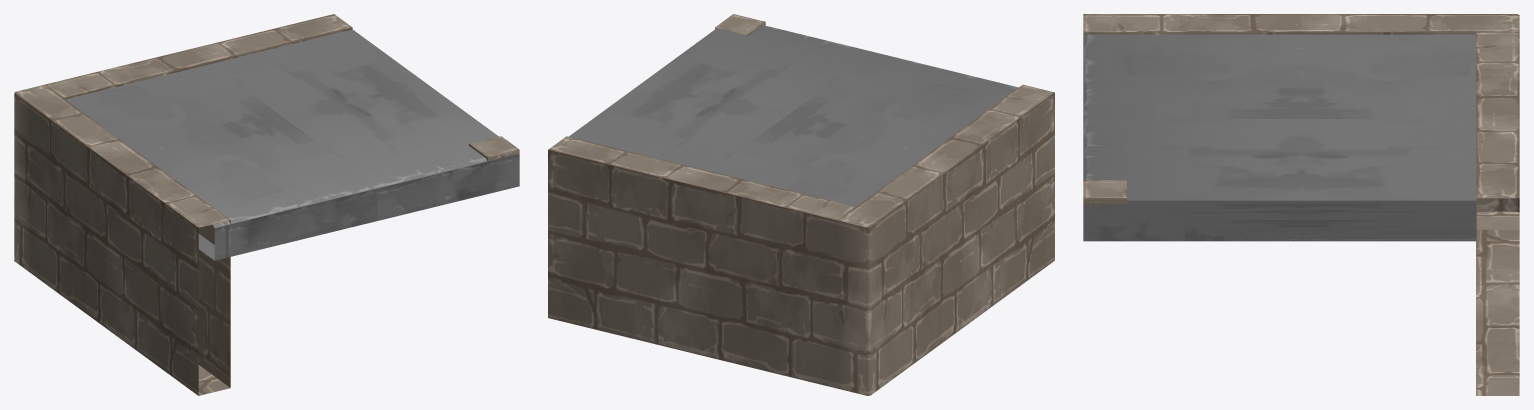
File: Stairs_Exterior_Platform45.gltf
3 views of the same model, side by side, from view 1: azimuth 30°, elevation 25°; view 2: azimuth 150°, elevation 25°; view 3: azimuth 270°, elevation 25° (orthographic). The views are drawn at different scales.
Visible parts, largest first — view 1: Stairs_Exterior_Platform45; view 2: Stairs_Exterior_Platform45; view 3: Stairs_Exterior_Platform45.
Boxes of the visible parts, x1=… form: Stairs_Exterior_Platform45: x1=14, y1=14, x2=519, y2=395; Stairs_Exterior_Platform45: x1=548, y1=14, x2=1054, y2=395; Stairs_Exterior_Platform45: x1=1083, y1=14, x2=1519, y2=395.
Bounding box in the file's own units: 2 × 1 × 2.
2 materials, 2 textured.
